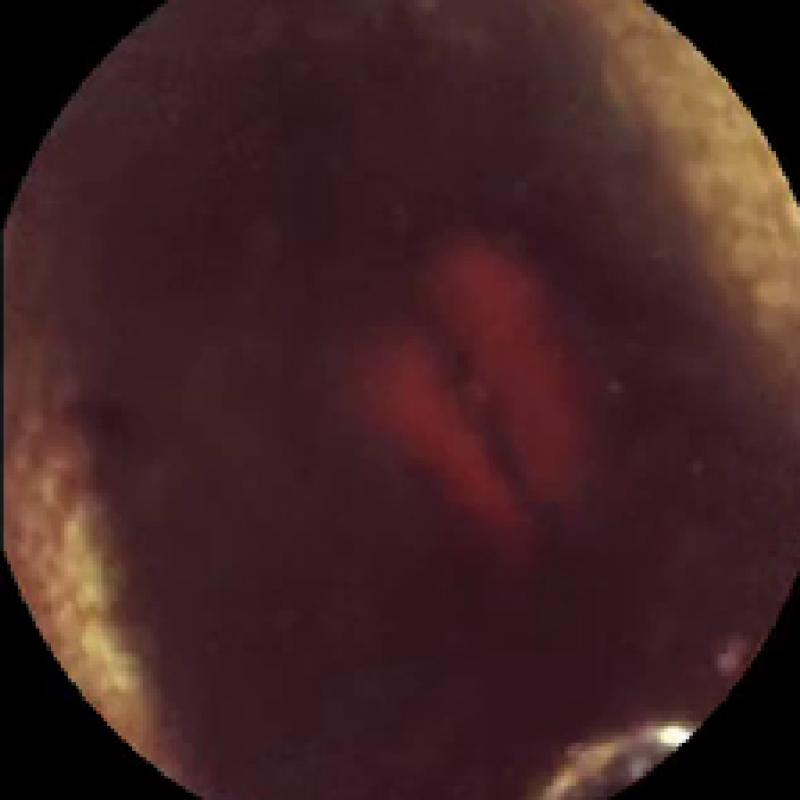bleeding: (343, 228, 586, 560)
